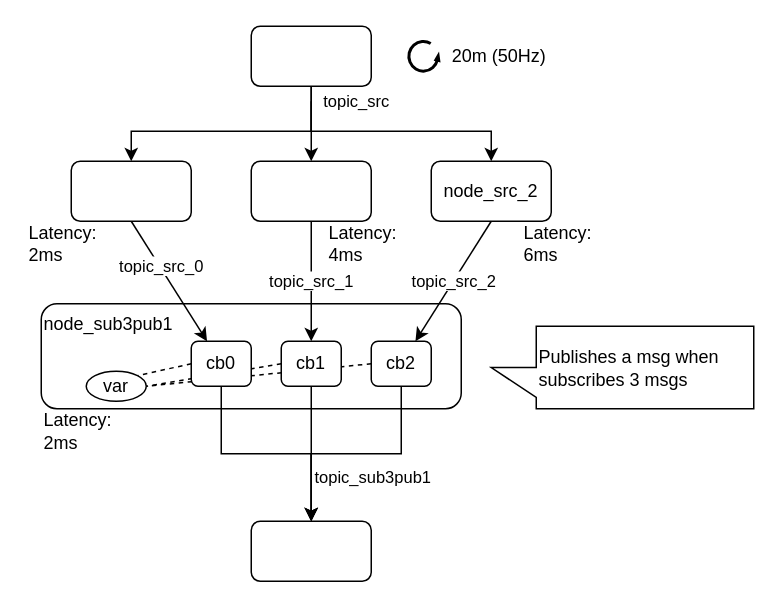
This 780x608 diagram has some shape labels left out. Here are the shapes that lost their labels. From the top down, the centre of each, then its label:
At pixel 310 55: "node_src".
At pixel 130 190: "node_src_0".
At pixel 310 190: "node_src_1".
At pixel 310 550: "node_dst".
